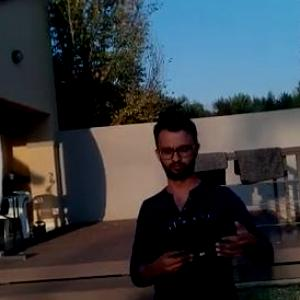follow: (120, 103, 280, 299)
